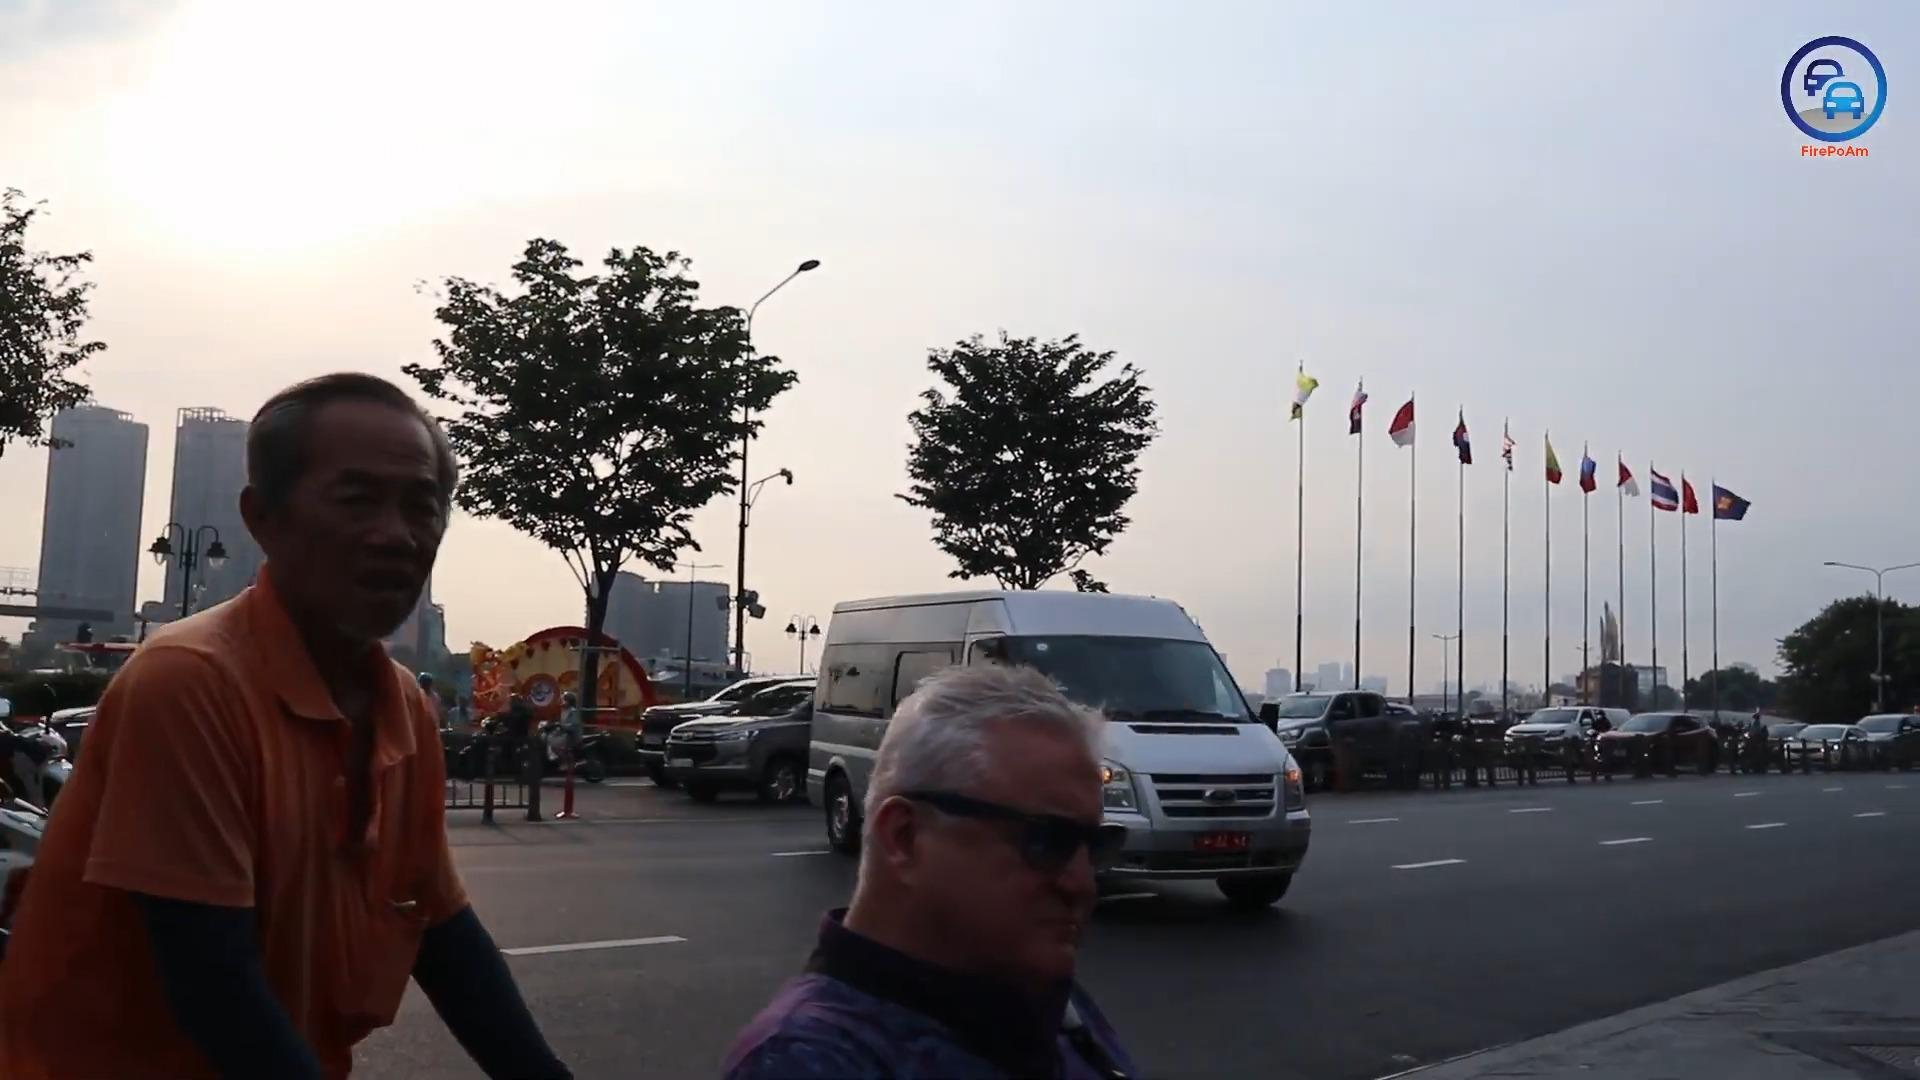bien_so: (1189, 829, 1253, 854)
